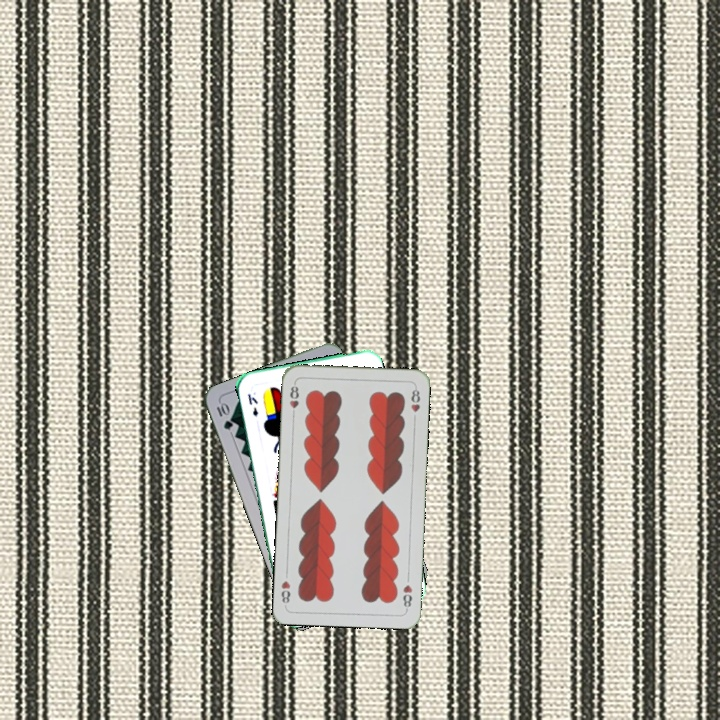EK: (243, 389, 261, 419)
G10: (212, 398, 235, 432)
H8: (286, 379, 301, 420), (399, 581, 415, 613)
